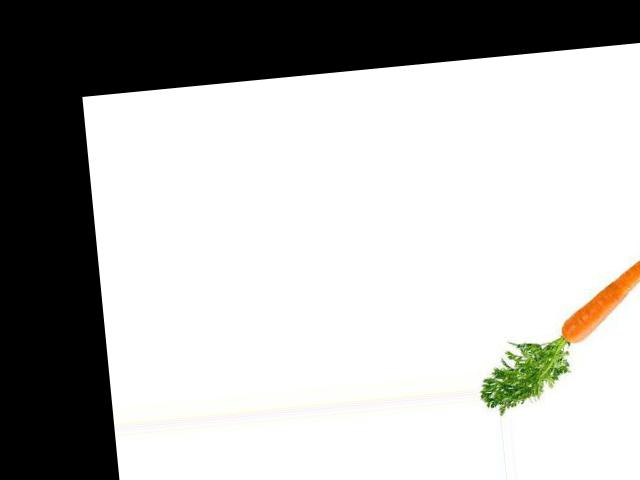carrot: (551, 234, 640, 347)
